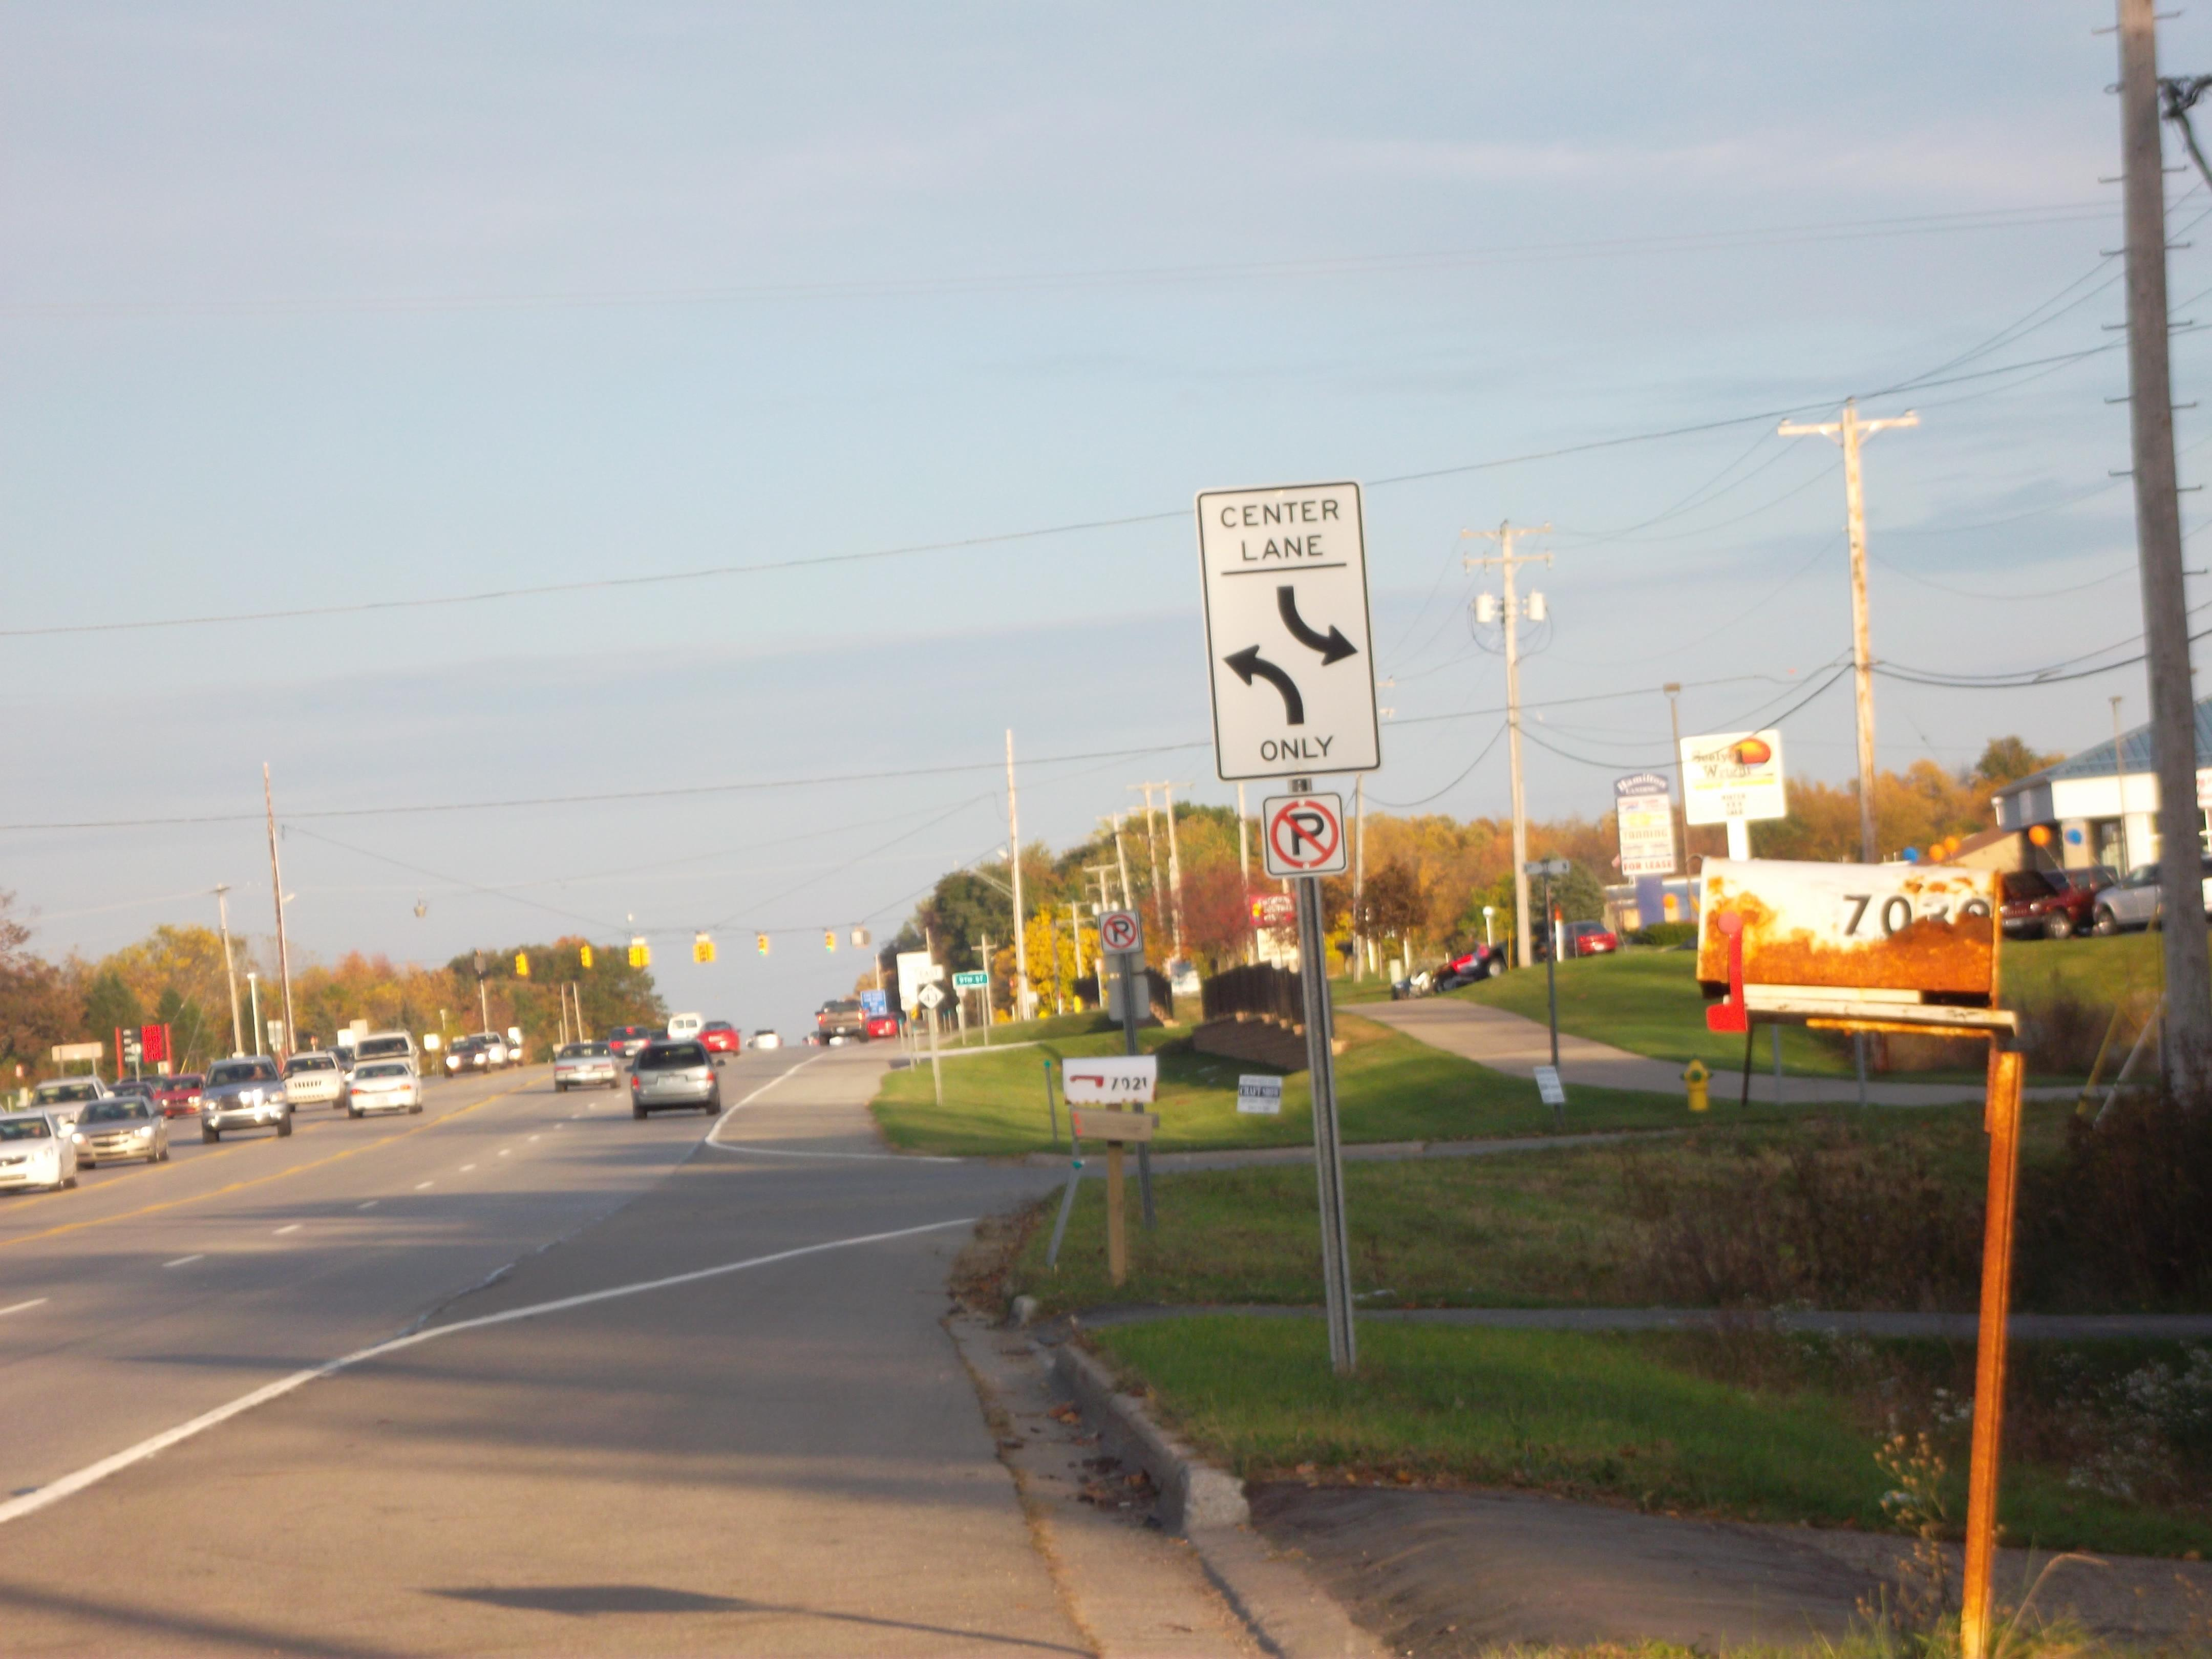regulatory: (1200, 472, 1386, 782)
